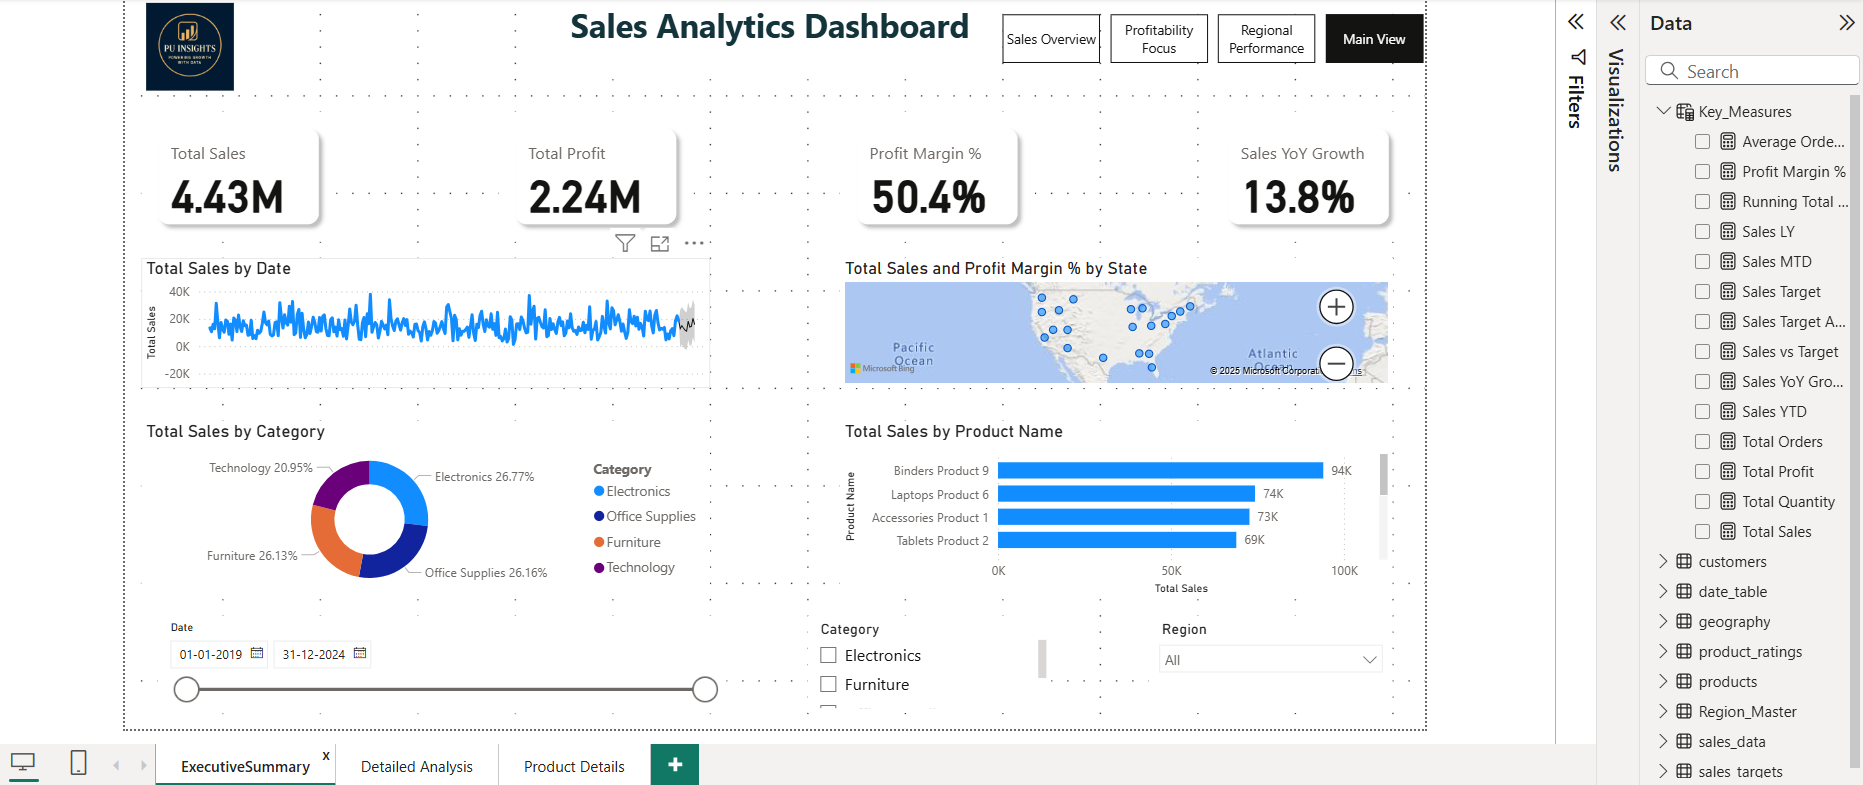

The page's visual inventory and layout, read from the dashboard file:
{"tool":"powerbi","page":{"name":"ExecutiveSummary","canvas":[1280,720],"ordinal":0},"visuals":[{"type":"image","box":[16,0,96,96],"z":0},{"type":"textbox","box":[416,0,432,80],"z":1000},{"type":"cardVisual","fields":{"Data":["Key_Measures.Total Sales"]},"box":[16,112,192,128],"z":2000},{"type":"cardVisual","fields":{"Data":["Key_Measures.Sales YoY Growth"]},"box":[1070,112,192,128],"z":3000},{"type":"cardVisual","fields":{"Data":["Key_Measures.Profit Margin %"]},"box":[704,112,192,128],"z":4000},{"type":"cardVisual","fields":{"Data":["Key_Measures.Total Profit"]},"box":[368,112,192,128],"z":5000},{"type":"lineChart","fields":{"Category":["date_table.Date"],"Y":["Key_Measures.Total Sales"]},"box":[16,256,560,128],"z":6000},{"type":"map","fields":{"Category":["geography.State"],"Size":["Key_Measures.Total Sales"]},"box":[704,256,544,128],"z":7000},{"type":"clusteredBarChart","fields":{"Category":["products.Product Name"],"Y":["Key_Measures.Total Sales"]},"box":[704,416,544,176],"z":8000},{"type":"donutChart","fields":{"Category":["products.Category"],"Y":["Key_Measures.Total Sales"]},"box":[16,416,560,176],"z":9000},{"type":"slicer","fields":{"Values":["date_table.Date"]},"box":[32,608,560,96],"z":10000},{"type":"slicer","fields":{"Values":["geography.Region"]},"box":[1008,608,240,96],"z":11000},{"type":"slicer","fields":{"Values":["products.Category"]},"box":[672,608,240,96],"z":12000},{"type":"bookmarkNavigator","box":[864,16,416,48],"z":13000}]}

Visuals, with their boxes on the page's 1280x720 design canvas (x1, y1, x2, y2). These are canvas units, not pixel positions in the 1863x785 screenshot, which may show the page scaled, cropped or inside an application window:
image: bbox=[16, 0, 112, 96]
textbox: bbox=[416, 0, 848, 80]
cardVisual - Key_Measures.Total Sales: bbox=[16, 112, 208, 240]
cardVisual - Key_Measures.Sales YoY Growth: bbox=[1070, 112, 1262, 240]
cardVisual - Key_Measures.Profit Margin %: bbox=[704, 112, 896, 240]
cardVisual - Key_Measures.Total Profit: bbox=[368, 112, 560, 240]
lineChart - date_table.Date x Key_Measures.Total Sales: bbox=[16, 256, 576, 384]
map - geography.State x Key_Measures.Total Sales: bbox=[704, 256, 1248, 384]
clusteredBarChart - products.Product Name x Key_Measures.Total Sales: bbox=[704, 416, 1248, 592]
donutChart - products.Category x Key_Measures.Total Sales: bbox=[16, 416, 576, 592]
slicer - date_table.Date: bbox=[32, 608, 592, 704]
slicer - geography.Region: bbox=[1008, 608, 1248, 704]
slicer - products.Category: bbox=[672, 608, 912, 704]
bookmarkNavigator: bbox=[864, 16, 1280, 64]
